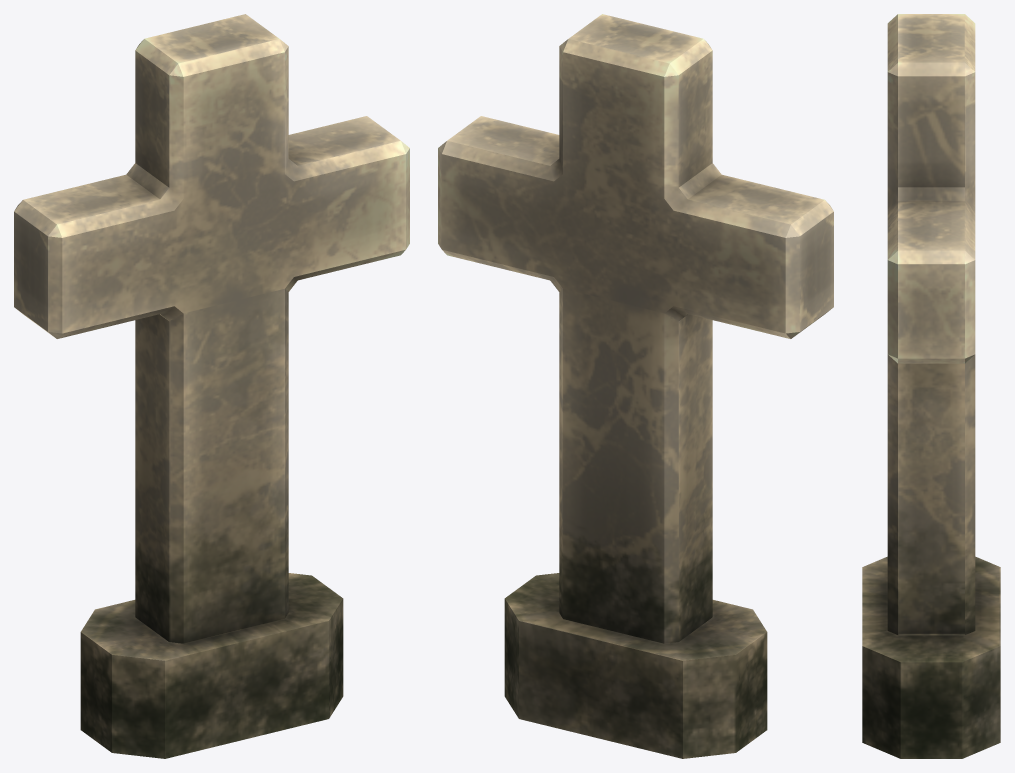
Rendered from SM_Tombstone_5.FBX.
3 renders of one model, left to right at view 1: azimuth 30°, elevation 25°; view 2: azimuth 150°, elevation 25°; view 3: azimuth 270°, elevation 25°, orthographic.
Visible parts, largest first — view 1: Tombstone_5; view 2: Tombstone_5; view 3: Tombstone_5.
Boxes of the visible parts, left/top/right/bottom form: Tombstone_5: left=14, top=14, right=409, bottom=758; Tombstone_5: left=438, top=14, right=833, bottom=758; Tombstone_5: left=862, top=14, right=1000, bottom=758.
Bounding box in the file's own units: 19.11 × 6.42 × 34.03.
